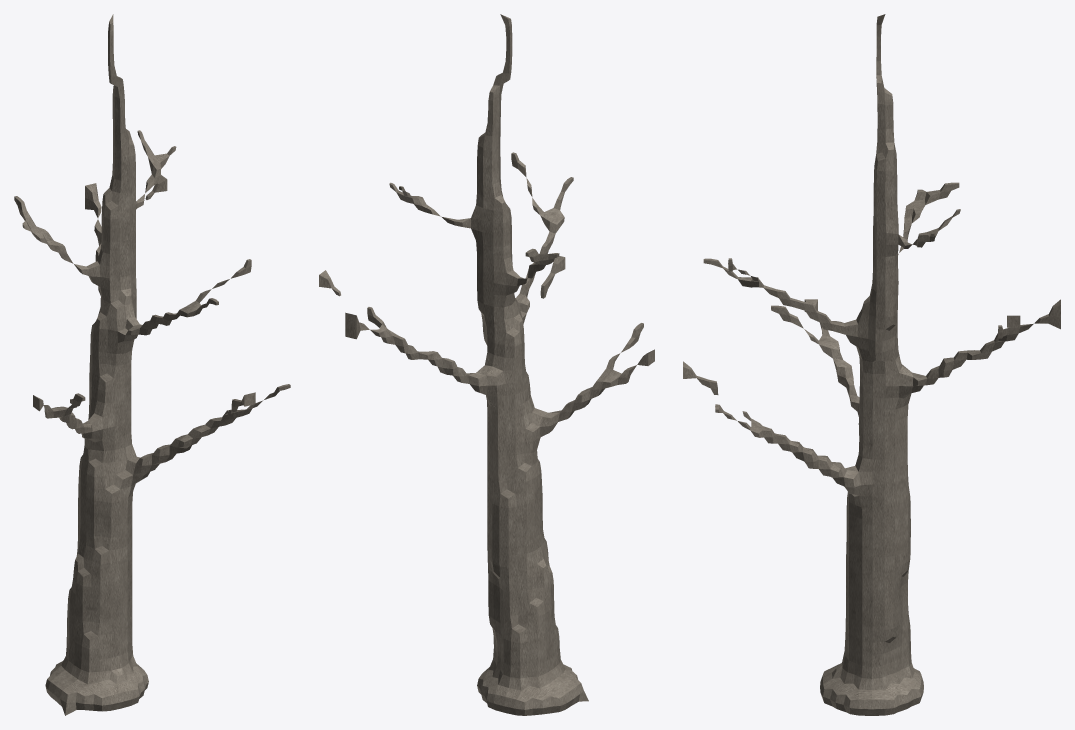
The model's file is tree_dead.glb.
The picture shows the model from 3 angles, left to right: view 1: azimuth 30°, elevation 25°; view 2: azimuth 150°, elevation 25°; view 3: azimuth 270°, elevation 25°; orthographic projection. The views are drawn at different scales.
Visible parts, largest first — view 1: wilds_tree_dead; view 2: wilds_tree_dead; view 3: wilds_tree_dead.
Boxes of the visible parts, x1,y1,x2,y2 form: wilds_tree_dead: [14, 14, 290, 715]; wilds_tree_dead: [319, 14, 654, 715]; wilds_tree_dead: [683, 14, 1060, 715].
Bounding box in the file's own units: 1.56 × 4.45 × 2.19.
Materials: 1 (1 with a texture image).
